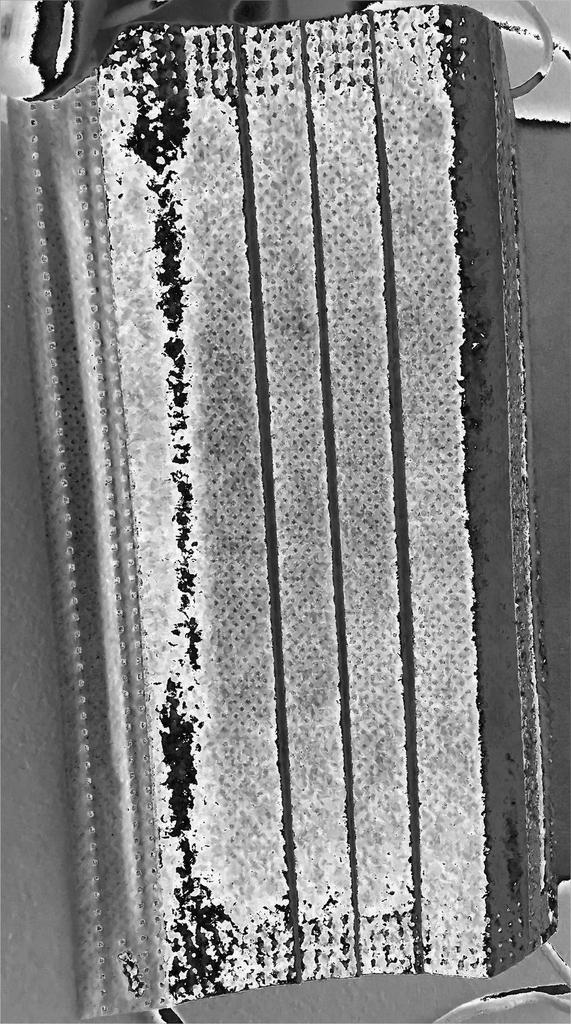High GSM: (89, 2, 502, 1018)
